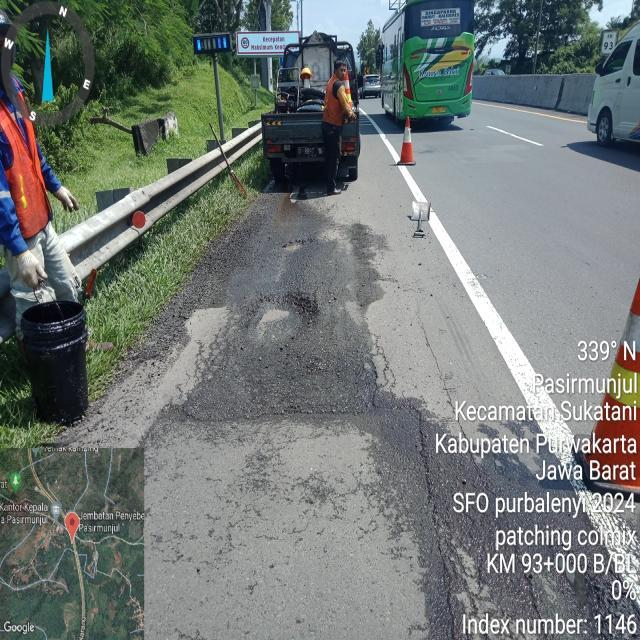Buraco: (235, 289, 323, 356), (276, 237, 319, 256)
